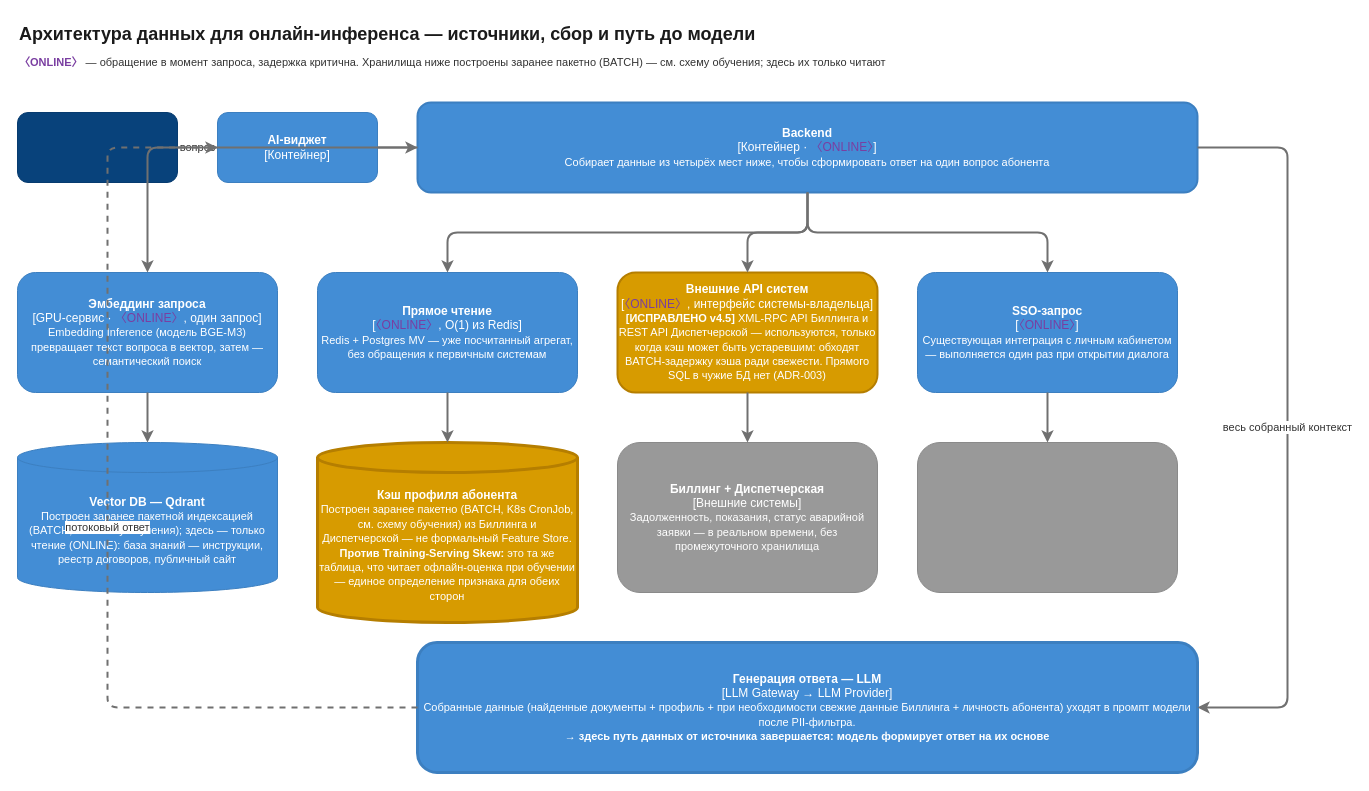
Some shapes in this 1369 by 791 pixel diagram are drawn without their labels. Here are the shapes that lost their labels. From the top down, the centre of each, then its label:
At point 97,147: "Абонент [Персона]".
At point 1047,517: "Платформа ЛК [Внешняя система] Профиль, сессия, телефон и email абонента".
